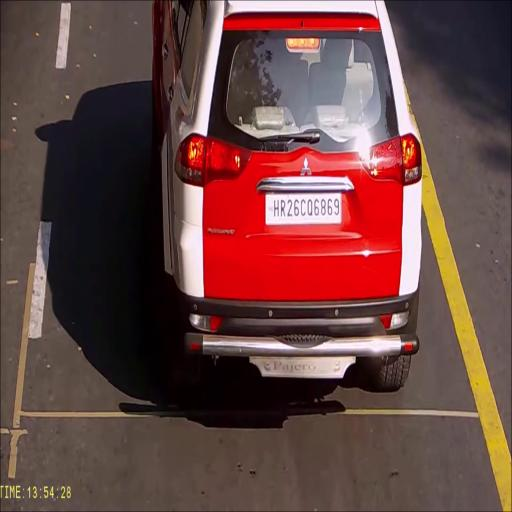License plate: (265, 193, 342, 226)
Vehicle: (151, 0, 423, 393)
